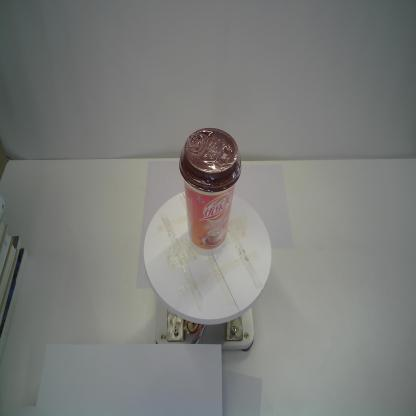Instant Drink: (179, 126, 242, 258)
